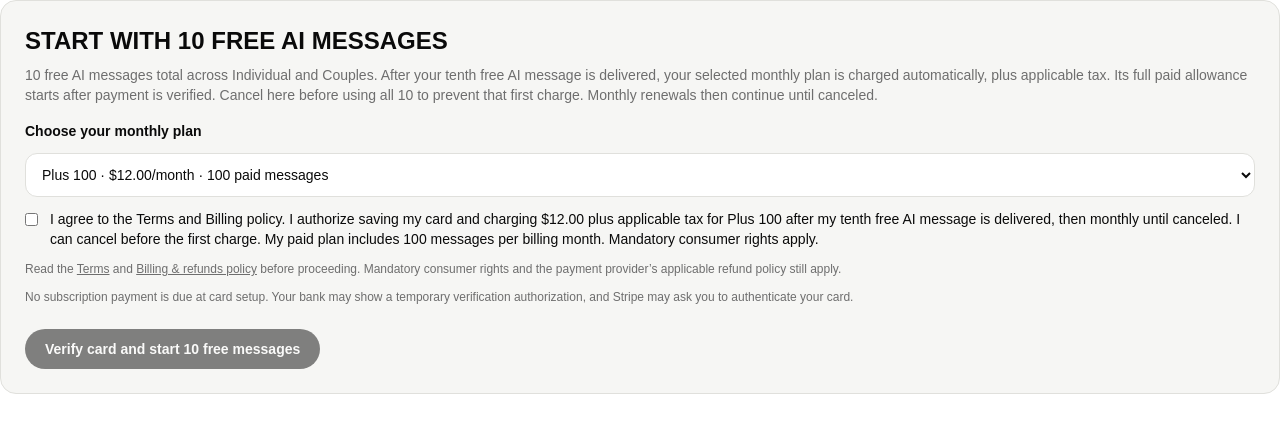
Test: a same-plan quote change also requires a fresh unchecked authorization
What coordinates should you click on to do the following:
click the checkbox
I would click on:
 (32, 220)
Its box is [25, 213, 38, 226].
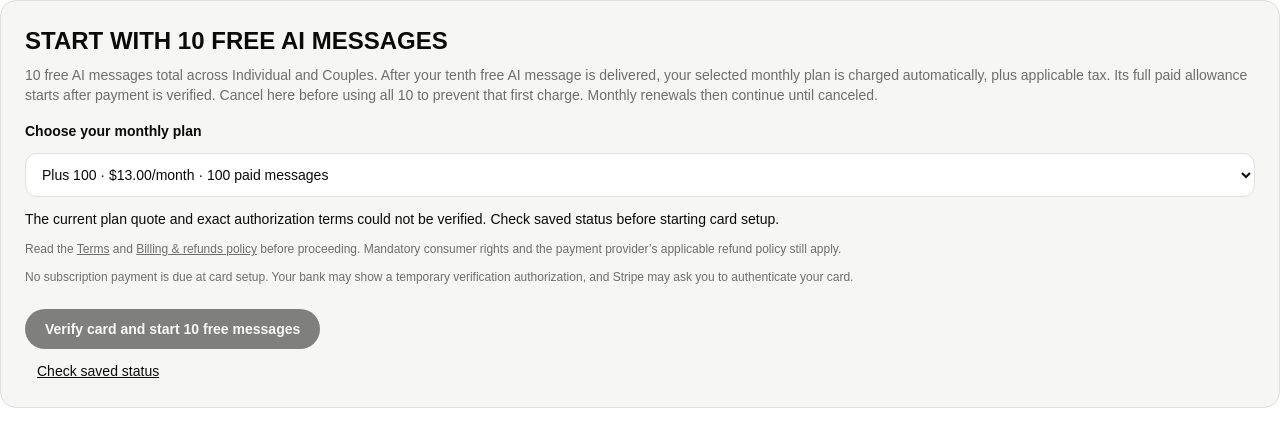
Now the text "current plan quote and exact authorization terms could not be verified" is shown, box [25, 211, 779, 227]
